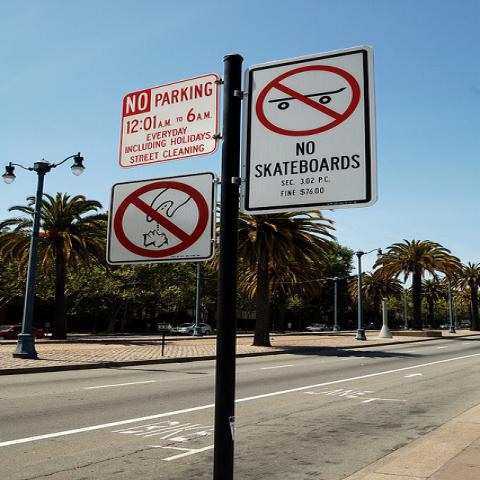car: (0, 324, 47, 341), (170, 323, 211, 336), (306, 325, 333, 332), (440, 323, 450, 329), (457, 324, 469, 329)
